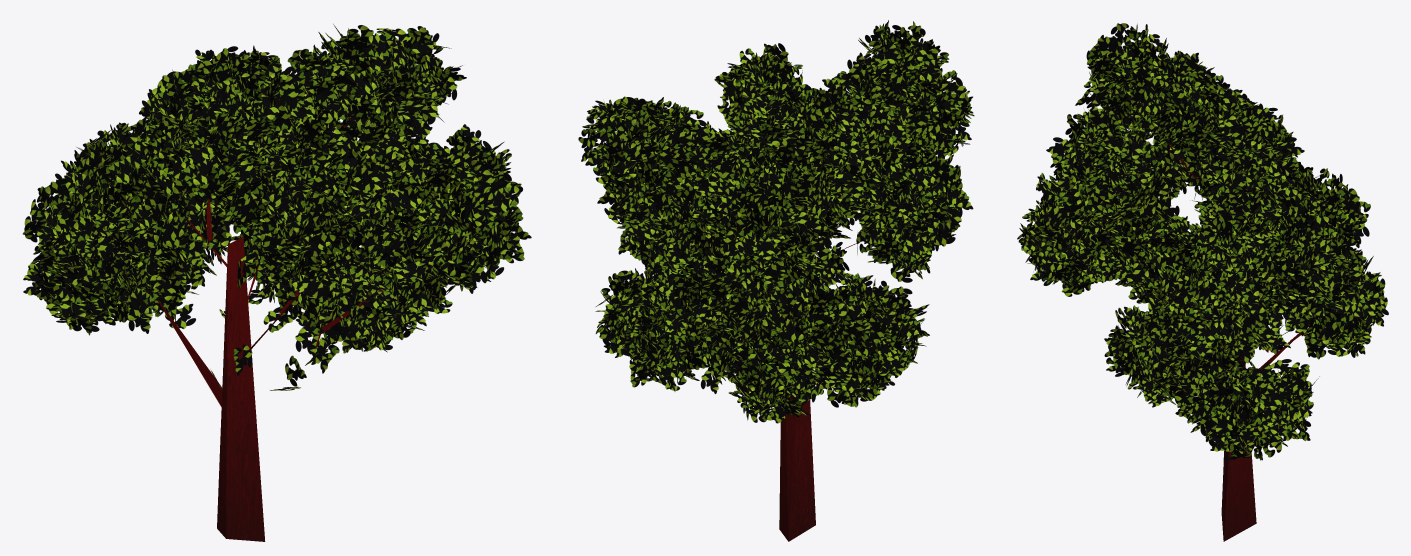
File: oak_broadleaf_v02_LOD1.glb
3 views of the same model, side by side, from view 1: azimuth 30°, elevation 25°; view 2: azimuth 150°, elevation 25°; view 3: azimuth 270°, elevation 25° (orthographic). The views are drawn at different scales.
Visible parts, largest first — view 1: oak_broadleaf_v02_LOD1; view 2: oak_broadleaf_v02_LOD1; view 3: oak_broadleaf_v02_LOD1.
Boxes of the visible parts, box(x1,y1,x2,y2) form: oak_broadleaf_v02_LOD1: box(22, 24, 531, 541); oak_broadleaf_v02_LOD1: box(578, 20, 974, 541); oak_broadleaf_v02_LOD1: box(1017, 23, 1388, 541).
Size of the model in its own units: 18.55 by 22.64 by 16.26.
Materials: 2 (2 with a texture image).
